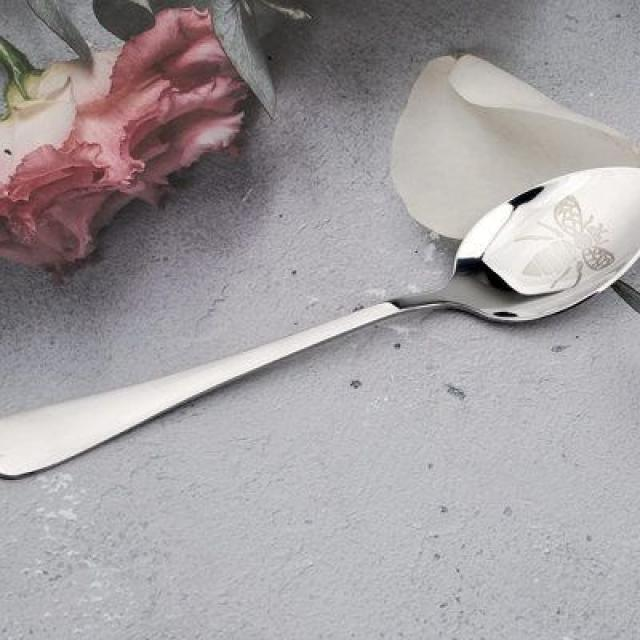spoon: (0, 161, 637, 561)
